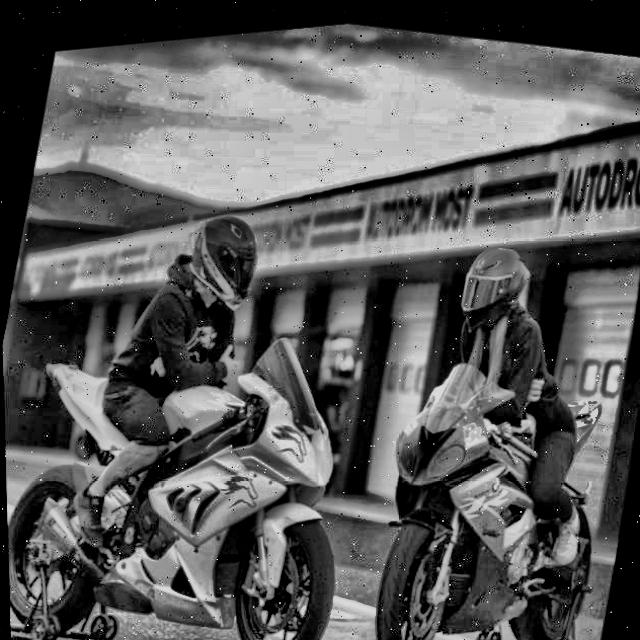Helmet: (166, 190, 270, 316), (449, 229, 539, 346)
